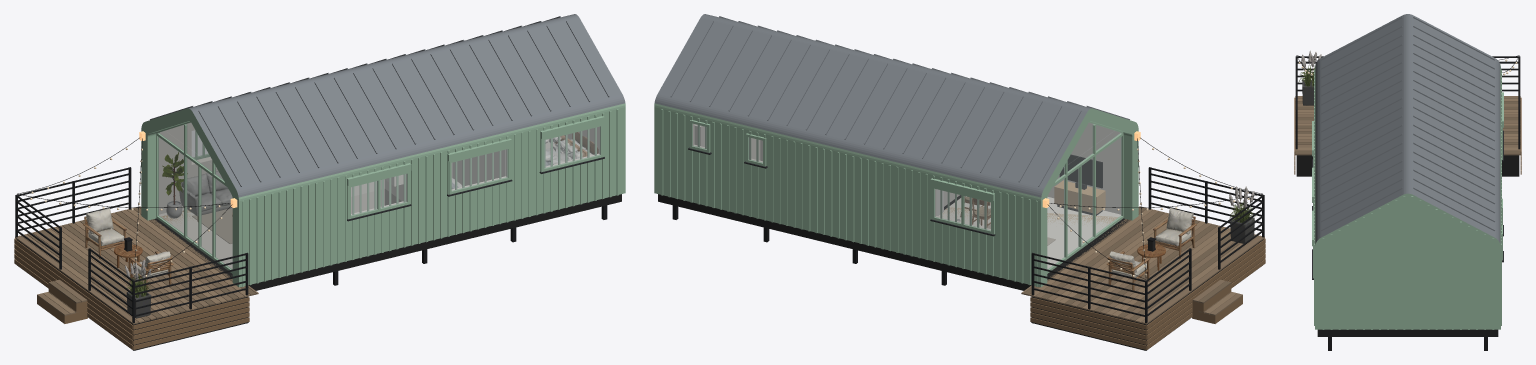
The model's file is sirius40.glb.
3 views of the same model, side by side, from view 1: azimuth 30°, elevation 25°; view 2: azimuth 150°, elevation 25°; view 3: azimuth 270°, elevation 25° (orthographic). The views are drawn at different scales.
Visible parts, largest first — view 1: Coque (toit), Coque, Couvre-joints, Garde-corps, Verrière, Habillage terrasse, Vitrages fenêtres, Terrasse lames 0, Joints debout, Terrasse lames 2, Terrasse lames 1, Dessous (+16 smaller); view 2: Coque (toit), Coque, Couvre-joints, Verrière, Garde-corps, Habillage terrasse, Terrasse lames 0, Joints debout, Terrasse lames 2, Terrasse lames 1, Dessous, Vitrages fenêtres (+12 smaller); view 3: Coque (toit), Coque, Joints debout, Couvre-joints, Dessous, Couvre-joints (toit), Garde-corps, Terrasse lames 0, Terrasse lames 1, Terrasse ossature, Terrasse lames 2, tripo_node_c5f71bd8-d07d-47cd-9ae9-853787fe0c50 (+2 smaller).
Part boxes in pixels (bbox=[...]): Coque (toit): bbox=[143, 14, 624, 193]; Coque: bbox=[141, 99, 625, 287]; Couvre-joints: bbox=[195, 109, 618, 286]; Garde-corps: bbox=[15, 167, 248, 322]; Verrière: bbox=[158, 131, 232, 269]; Habillage terrasse: bbox=[14, 238, 249, 349]; Vitrages fenêtres: bbox=[192, 127, 600, 215]; Terrasse lames 0: bbox=[15, 206, 258, 324]; Joints debout: bbox=[150, 16, 609, 186]; Terrasse lames 2: bbox=[21, 208, 250, 322]; Terrasse lames 1: bbox=[27, 207, 256, 321]; Dessous: bbox=[151, 194, 621, 290]; Coque (toit): bbox=[655, 14, 1136, 193]; Coque: bbox=[654, 99, 1138, 287]; Couvre-joints: bbox=[661, 109, 1037, 286]; Verrière: bbox=[1047, 131, 1121, 269]; Garde-corps: bbox=[1031, 167, 1264, 322]; Habillage terrasse: bbox=[1030, 238, 1265, 349]; Terrasse lames 0: bbox=[1021, 206, 1264, 324]; Joints debout: bbox=[670, 16, 1129, 186]; Terrasse lames 2: bbox=[1029, 208, 1258, 322]; Terrasse lames 1: bbox=[1023, 207, 1240, 321]; Dessous: bbox=[658, 194, 1129, 290]; Vitrages fenêtres: bbox=[692, 124, 990, 230]; Coque (toit): bbox=[1317, 14, 1498, 240]; Coque: bbox=[1315, 61, 1500, 329]; Joints debout: bbox=[1320, 17, 1495, 230]; Couvre-joints: bbox=[1314, 69, 1501, 329]; Dessous: bbox=[1317, 329, 1498, 336]; Couvre-joints (toit): bbox=[1322, 196, 1494, 241]; Garde-corps: bbox=[1295, 56, 1520, 149]; Terrasse lames 0: bbox=[1295, 96, 1520, 155]; Terrasse lames 1: bbox=[1295, 101, 1520, 153]; Terrasse ossature: bbox=[1296, 155, 1519, 176]; Terrasse lames 2: bbox=[1295, 98, 1520, 150]; tripo_node_c5f71bd8-d07d-47cd-9ae9-853787fe0c50: bbox=[1298, 50, 1321, 105].
Size of the model in its own units: 13.62 by 4.22 by 5.34.
50 materials, 14 textured.
